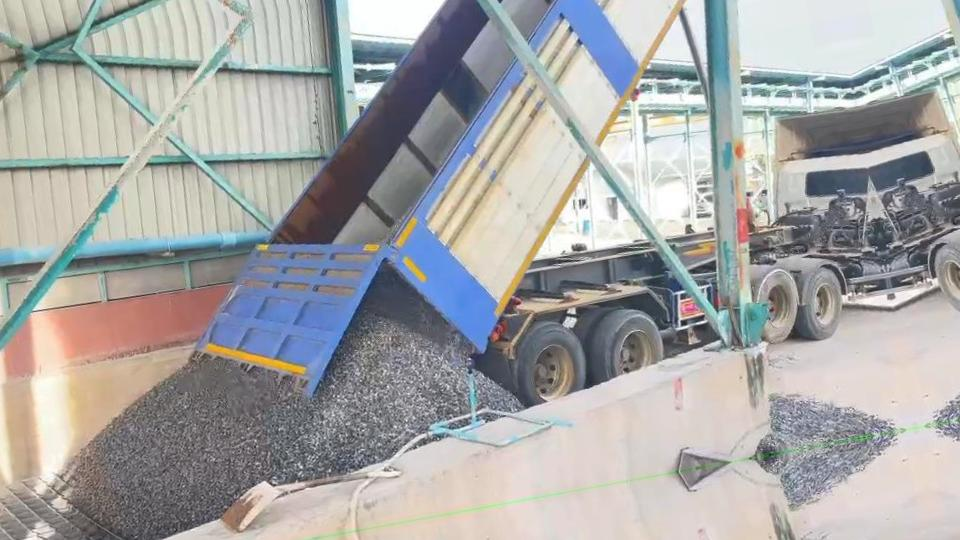gravel: (62, 276, 471, 540), (756, 395, 895, 455), (476, 374, 520, 410)
